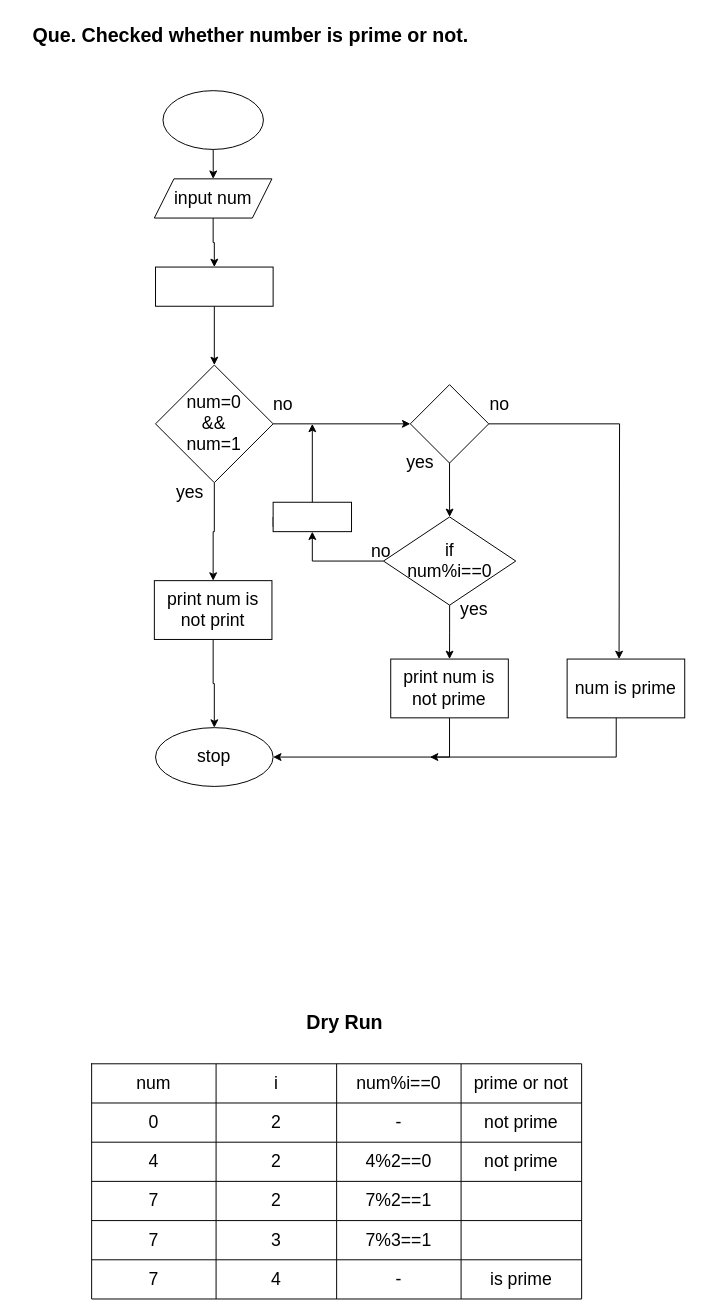
Image size: 702x1316. Some labels were removed from this diagram. The box of each missing label's shape, as (x1, y1, x2, y2) in pixels:
Declare i=2,m=num/2,: (155, 266, 273, 306)
i<=m: (409, 384, 489, 463)
i=i+1: (272, 501, 352, 532)
start: (162, 90, 263, 149)
